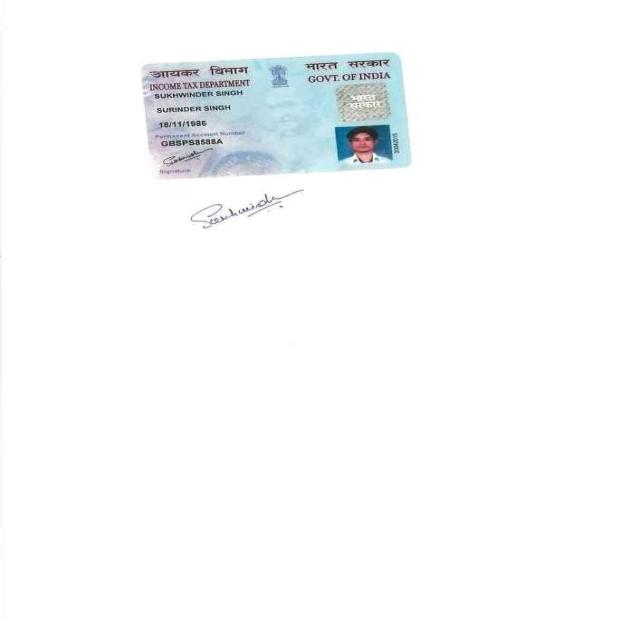pan_card: (138, 49, 410, 180)
